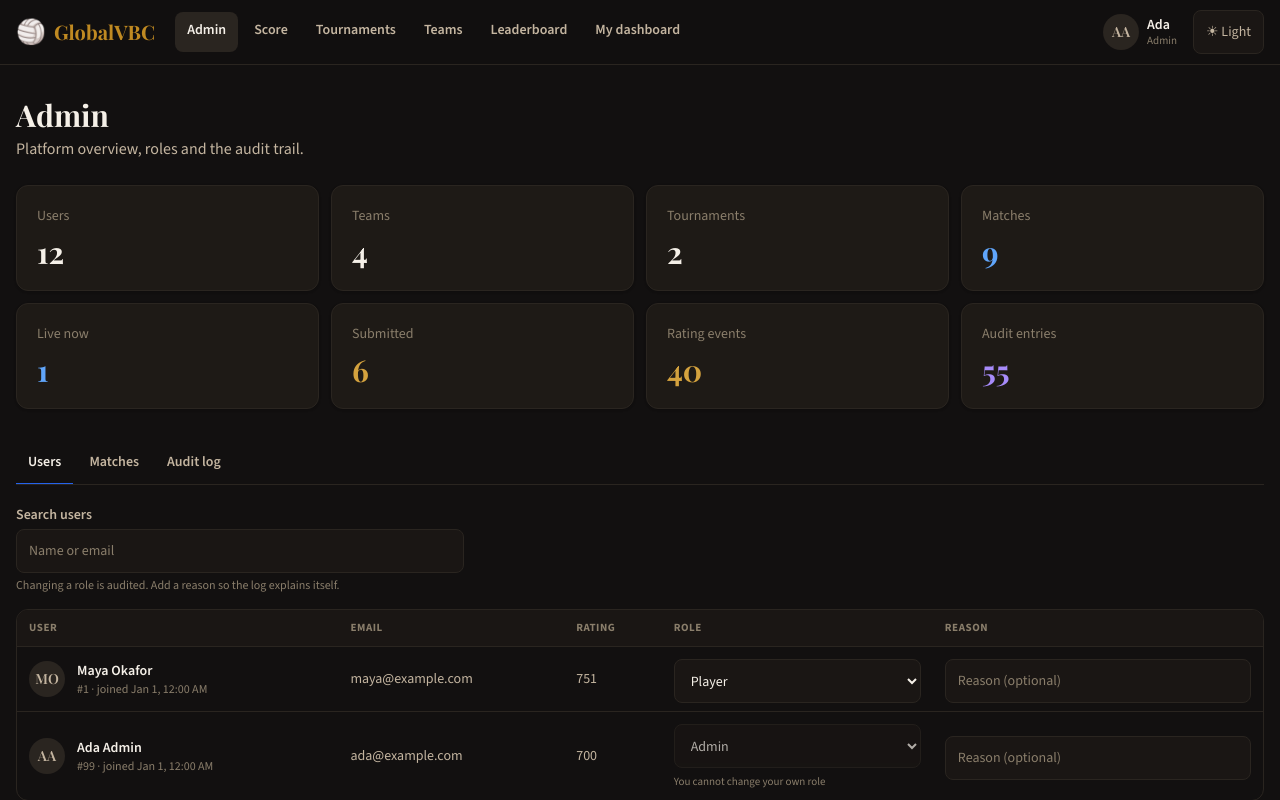
Test: Admin › shows matches with links to view and score
Check: the text "Maya Okafor" is shown, box left=77, top=661, right=152, bottom=680
Click the tab "Matches".
click(114, 463)  # box left=77, top=441, right=151, bottom=485
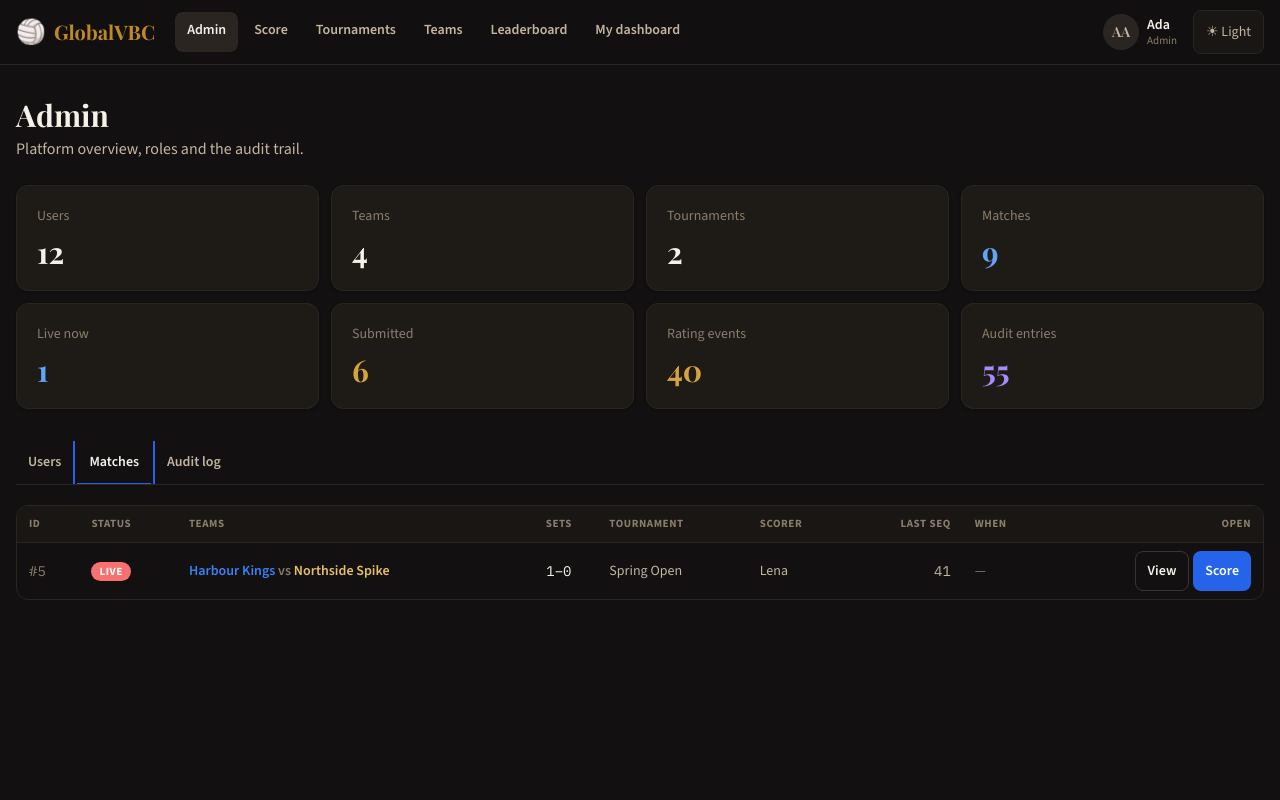
Check: the text "Harbour Kings" is shown, box left=189, top=561, right=275, bottom=580
Check: the text "41" is shown, box left=849, top=542, right=963, bottom=599
